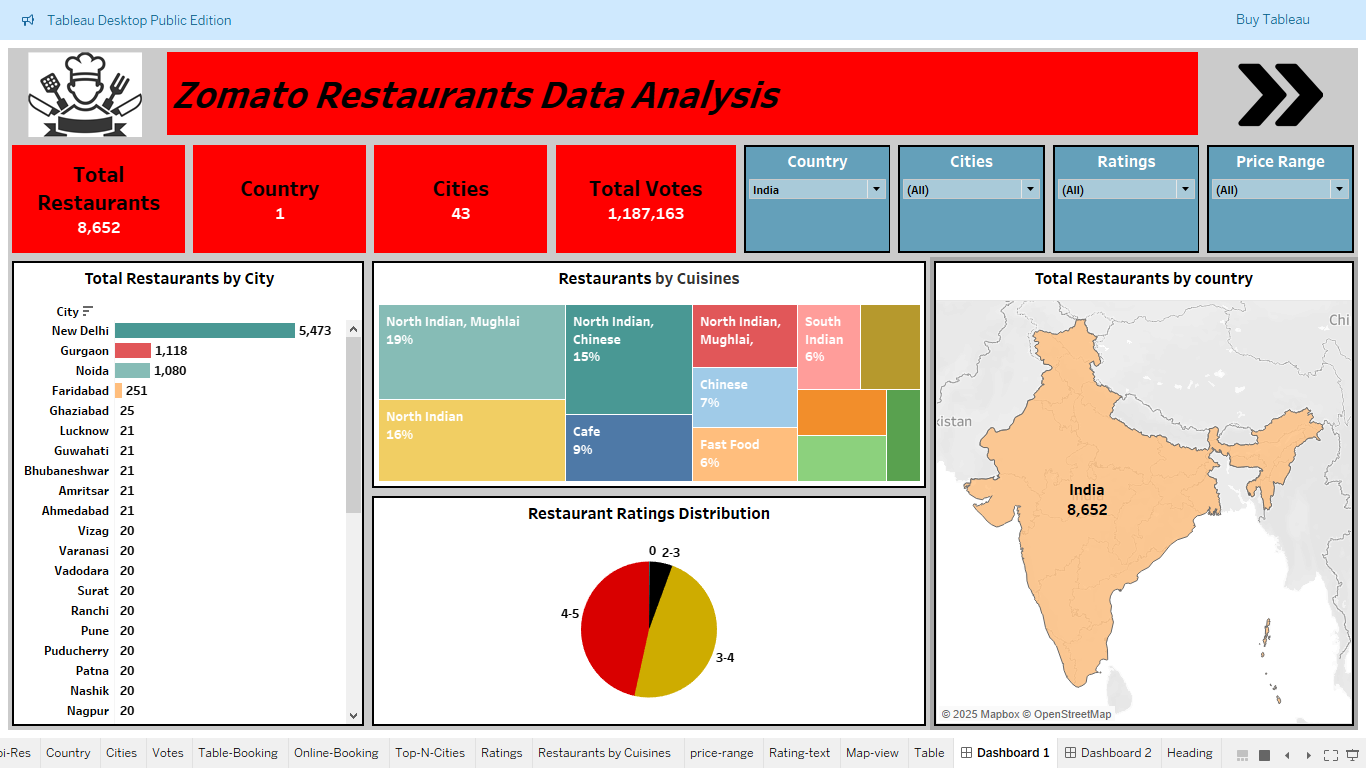

The page's visual inventory and layout, read from the dashboard file:
{"tool":"tableau","page":{"name":"Dashboard 1","canvas":[1000,1000],"units":"permille","ordinal":0},"visuals":[{"type":"image","param":"Image/download (6).jpeg","box":[5.9,11.5,113.8,132.8]},{"type":"worksheet","title":"Heading","mark":"Text","box":[119.7,11.5,760.8,132.8]},{"type":"dashboard-object","box":[880.5,11.5,113.6,132.8]},{"type":"worksheet","title":"Kpi-Res","mark":"Automatic","box":[5.9,144.3,132.6,166]},{"type":"worksheet","title":"Country","mark":"Automatic","box":[138.5,144.3,132.7,166]},{"type":"worksheet","title":"Cities","mark":"Text","box":[271.2,144.3,132.8,166]},{"type":"worksheet","title":"Votes","mark":"Text","box":[403.9,144.3,137.8,166]},{"type":"filter","title":"Top-N-Cities","param":"[federated.0dg28ba170oxji1h7c1l211noi8w].[none:Country:nk]","box":[541.7,144.3,113.1,166]},{"type":"filter","title":"Top-N-Cities","param":"[federated.0dg28ba170oxji1h7c1l211noi8w].[none:City:nk]","box":[654.8,144.3,113.1,166]},{"type":"filter","title":"Top-N-Cities","param":"[federated.0dg28ba170oxji1h7c1l211noi8w].[Rating-grp]","box":[767.9,144.3,113.1,166]},{"type":"filter","title":"Top-N-Cities","param":"[federated.0dg28ba170oxji1h7c1l211noi8w].[none:Calculation_309341005996318723:nk","box":[881,144.3,113.1,166]},{"type":"worksheet","title":"Top-N-Cities","mark":"Automatic","rows":["City"],"cols":["Restaurant ID"],"box":[5.9,310.2,263.6,678.3]},{"type":"worksheet","title":"Restaurants by Cuisines","mark":"Automatic","box":[269.4,310.2,411.4,337.2]},{"type":"worksheet","title":"Map-view","mark":"Multipolygon","box":[680.8,310.2,313.4,678.3]},{"type":"worksheet","title":"Ratings","mark":"Pie","box":[269.4,647.4,411.4,341.2]}]}

Visuals, with their boxes on the dashboard's canvas, which has no fixed pixel size, in thousandths of its width and height (x1, y1, x2, y2). These are canvas units, not pixel positions in the 1366x768 screenshot, which may show the page scaled, cropped or inside an application window:
image: {"left": 6, "top": 12, "right": 120, "bottom": 144}
"Heading" worksheet (Text marks): {"left": 120, "top": 12, "right": 880, "bottom": 144}
dashboard-object: {"left": 880, "top": 12, "right": 994, "bottom": 144}
"Kpi-Res" worksheet: {"left": 6, "top": 144, "right": 138, "bottom": 310}
"Country" worksheet: {"left": 138, "top": 144, "right": 271, "bottom": 310}
"Cities" worksheet (Text marks): {"left": 271, "top": 144, "right": 404, "bottom": 310}
"Votes" worksheet (Text marks): {"left": 404, "top": 144, "right": 542, "bottom": 310}
"Top-N-Cities" filter: {"left": 542, "top": 144, "right": 655, "bottom": 310}
"Top-N-Cities" filter: {"left": 655, "top": 144, "right": 768, "bottom": 310}
"Top-N-Cities" filter: {"left": 768, "top": 144, "right": 881, "bottom": 310}
"Top-N-Cities" filter: {"left": 881, "top": 144, "right": 994, "bottom": 310}
"Top-N-Cities" worksheet: {"left": 6, "top": 310, "right": 270, "bottom": 988}
"Restaurants by Cuisines" worksheet: {"left": 269, "top": 310, "right": 681, "bottom": 647}
"Map-view" worksheet (Multipolygon marks): {"left": 681, "top": 310, "right": 994, "bottom": 988}
"Ratings" worksheet (Pie marks): {"left": 269, "top": 647, "right": 681, "bottom": 989}
